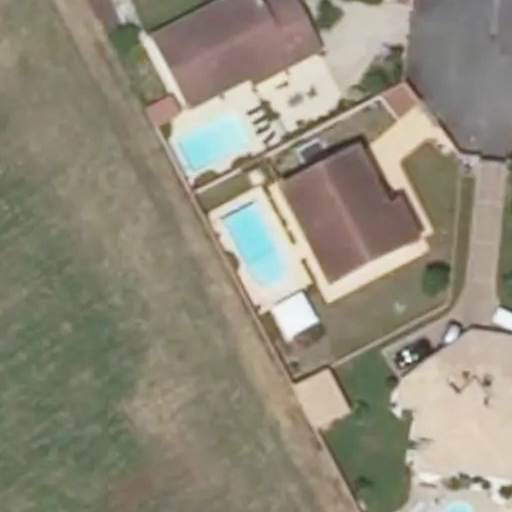pool: (218, 214, 299, 277)
